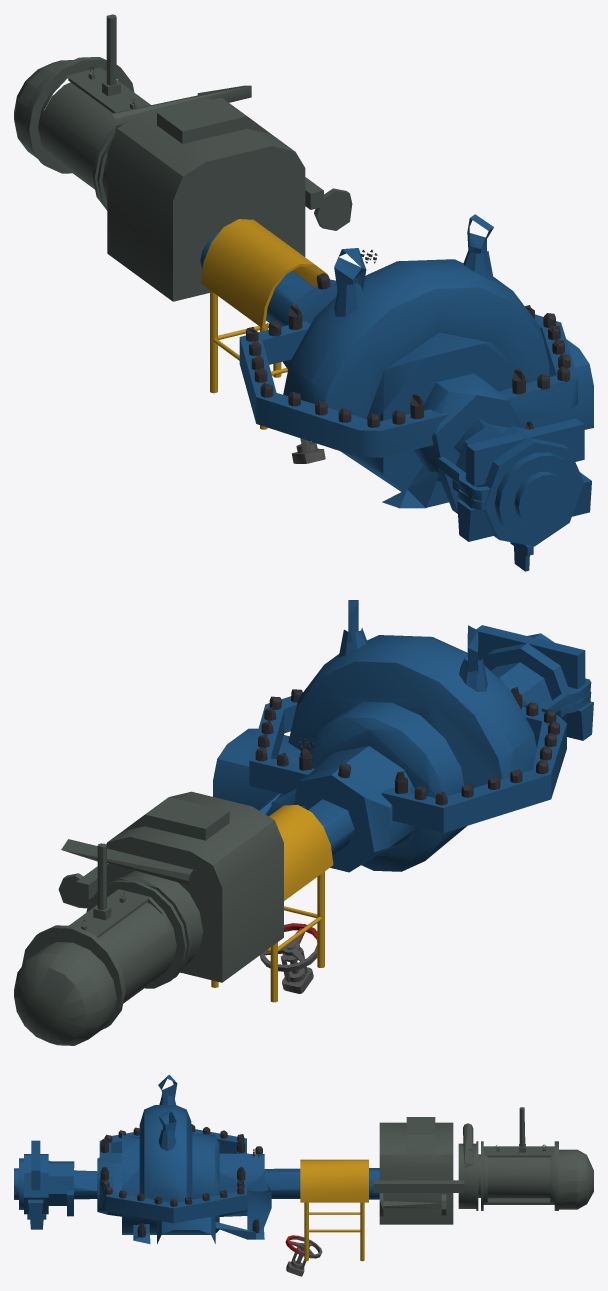
File: pump.glb
The picture shows the model from 3 angles, top to bottom: view 1: azimuth 30°, elevation 25°; view 2: azimuth 150°, elevation 25°; view 3: azimuth 270°, elevation 25°; orthographic projection. The views are drawn at different scales.
Visible parts, largest first — view 1: pump_q; view 2: pump_q, valve_q; view 3: pump_q, valve_q.
Part boxes in pixels (box(x1,y1,x2,y2)): pump_q: box(14, 14, 593, 571); pump_q: box(14, 600, 593, 1045); valve_q: box(260, 923, 317, 993); pump_q: box(14, 1074, 593, 1261); valve_q: box(285, 1235, 322, 1276).
Bounding box in the file's own units: 0.6384 × 0.6017 × 1.78.
